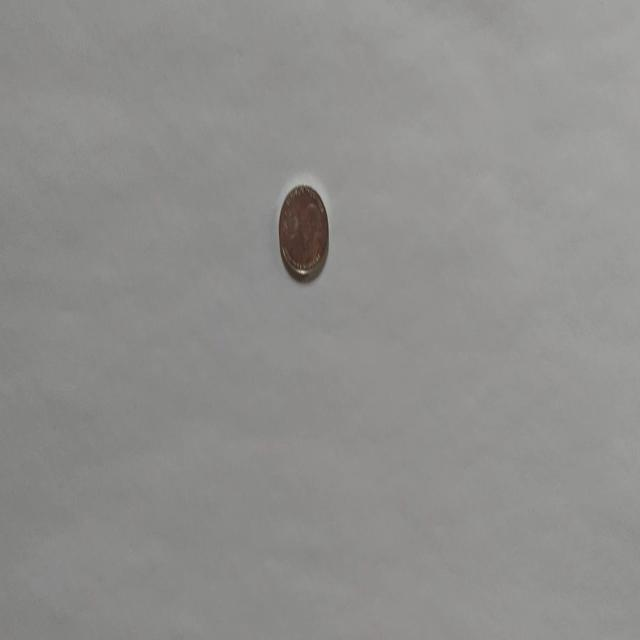lima ratus rupiah: (277, 182, 329, 281)
